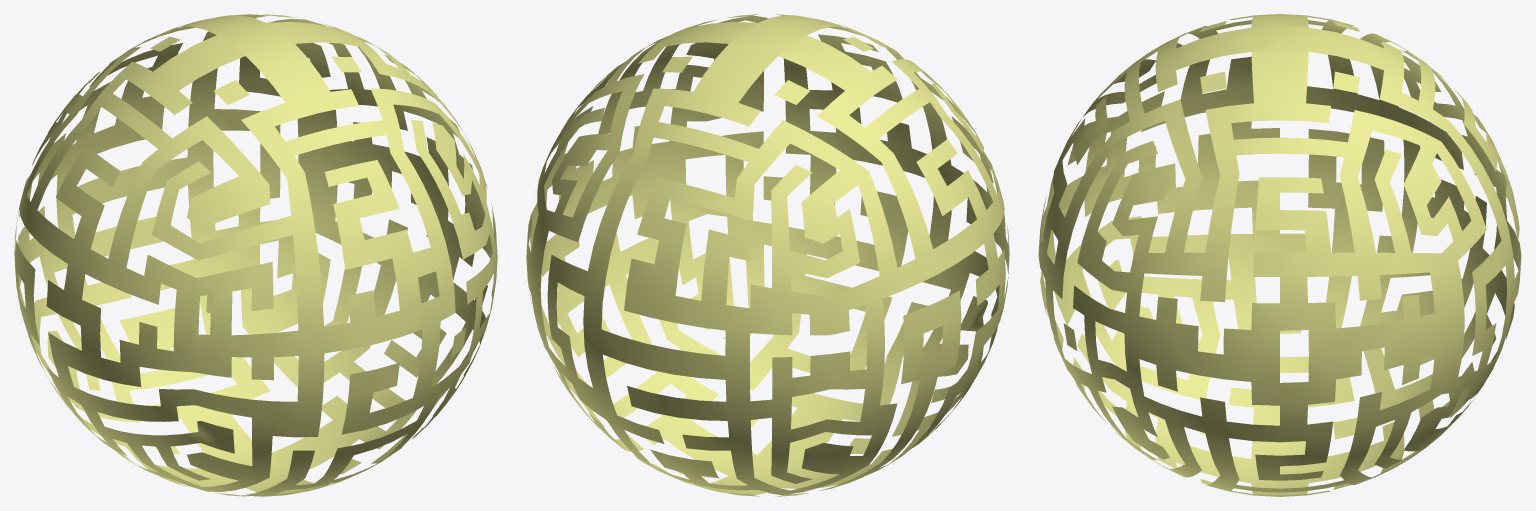
The model's file is Planet02.FBX.
3 views of the same model, side by side, from view 1: azimuth 30°, elevation 25°; view 2: azimuth 150°, elevation 25°; view 3: azimuth 270°, elevation 25° (orthographic).
Visible parts, largest first — view 1: Cube003; view 2: Cube003; view 3: Cube003.
Part boxes in pixels (x1=…): Cube003: x1=14, y1=14, x2=497, y2=496; Cube003: x1=526, y1=14, x2=1009, y2=496; Cube003: x1=1038, y1=14, x2=1521, y2=496.
Bounding box in the file's own units: 49.92 × 49.92 × 49.92.
